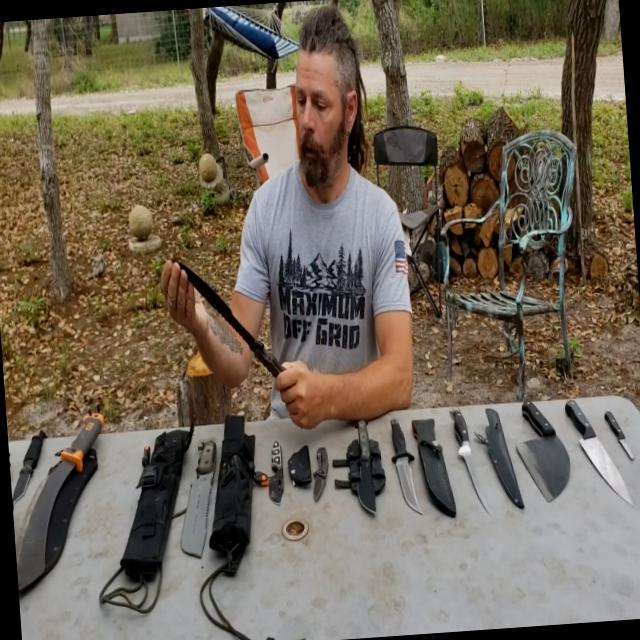knife: (4, 394, 112, 612), (174, 251, 306, 409), (499, 396, 583, 504), (175, 431, 234, 571), (565, 398, 632, 509), (451, 389, 500, 537), (6, 416, 60, 536), (345, 407, 387, 533), (381, 401, 420, 533), (290, 425, 337, 527), (252, 428, 292, 528), (598, 401, 639, 481)
